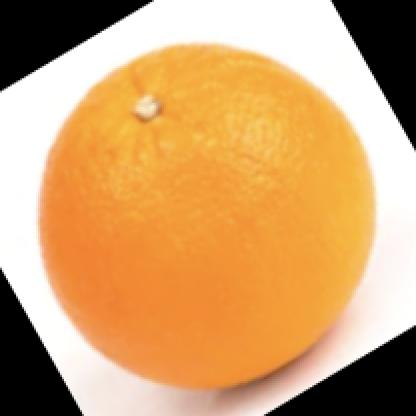fresh: (39, 44, 376, 390)
